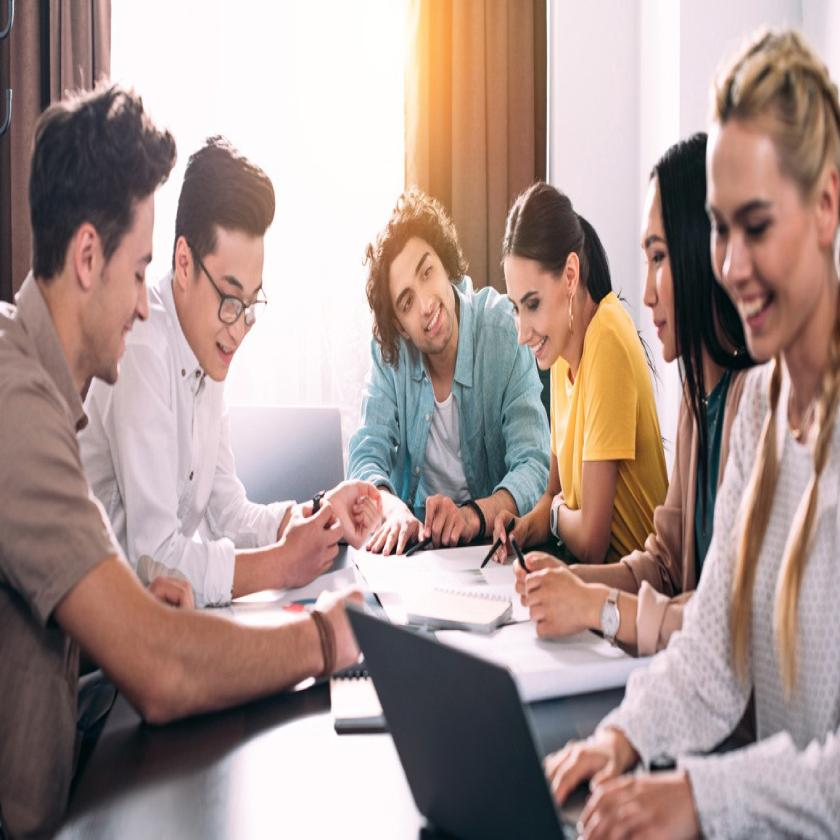Sin_casco: (699, 30, 840, 398), (36, 68, 162, 414), (174, 122, 278, 406), (496, 167, 592, 396), (368, 186, 472, 388), (636, 121, 713, 382)
